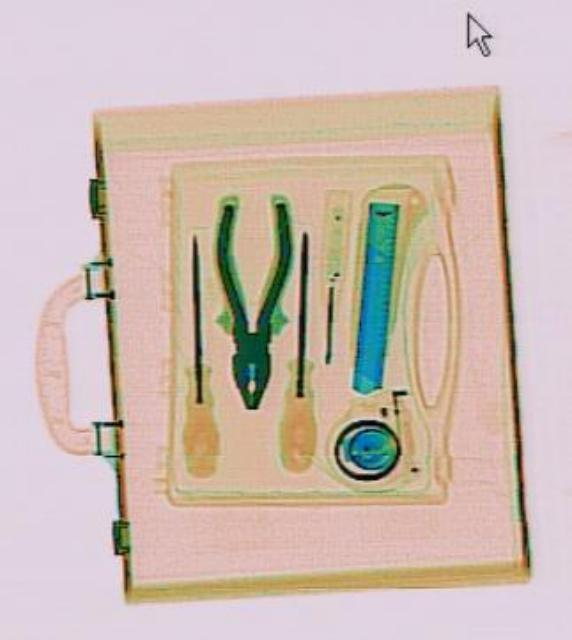Pliers: (210, 200, 290, 408)
